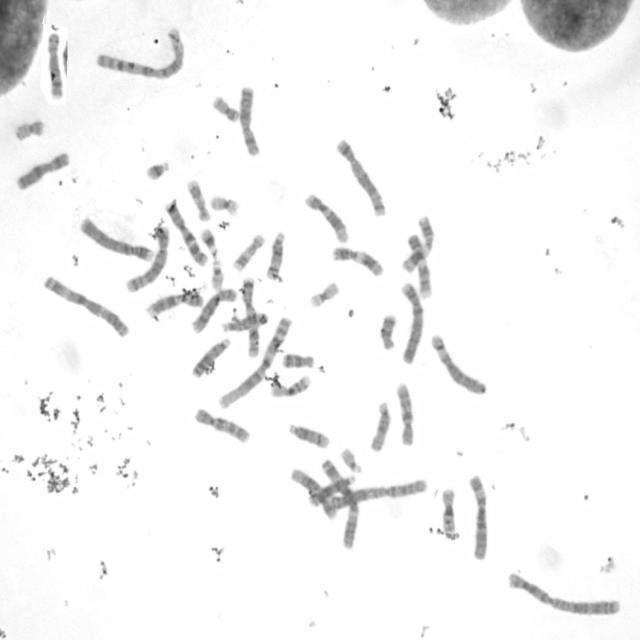A1: (215, 314, 294, 411), (92, 24, 186, 80)
A2: (504, 568, 623, 618), (316, 475, 429, 514)
A3: (40, 272, 131, 339), (318, 456, 361, 551)
B4: (76, 214, 156, 264), (397, 279, 426, 365)
B5: (333, 135, 388, 219), (124, 223, 171, 293)
C10: (191, 404, 252, 446), (393, 378, 417, 449)
C11: (398, 212, 436, 275), (329, 243, 386, 279)
C12: (288, 464, 338, 520), (302, 189, 350, 244)
C6: (427, 329, 488, 397), (466, 471, 490, 564)
C7: (162, 197, 208, 267), (239, 273, 261, 359)
C8: (188, 284, 238, 336), (43, 29, 65, 101)
C9: (405, 231, 434, 300), (143, 288, 204, 317)
D13: (188, 334, 233, 379), (308, 473, 357, 509)
D14: (284, 418, 332, 451), (263, 229, 287, 282)
D15: (367, 398, 392, 454), (219, 310, 269, 334)
E16: (266, 371, 313, 399), (439, 484, 460, 540)
E17: (230, 231, 266, 274), (185, 177, 212, 223)
E18: (377, 311, 398, 352), (280, 350, 316, 370)
F19: (306, 278, 341, 310), (208, 192, 241, 217)
F20: (12, 115, 46, 143), (210, 93, 241, 123)
G21: (199, 225, 220, 257), (144, 158, 171, 181)
G22: (339, 445, 364, 474), (208, 257, 227, 291)
X: (14, 149, 70, 193), (238, 83, 262, 158)
